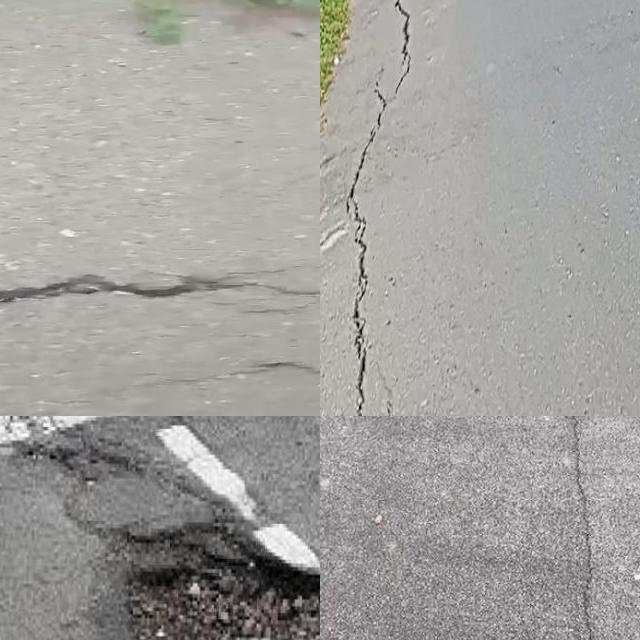Lubang: (123, 520, 320, 640)
Melintang: (0, 265, 320, 321)
Memanjang: (331, 0, 416, 416), (552, 416, 613, 640)
